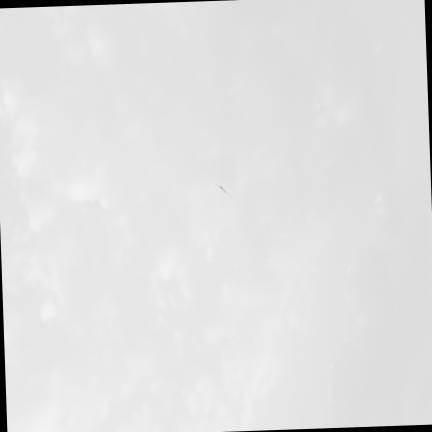Shahed: (214, 182, 233, 197)
